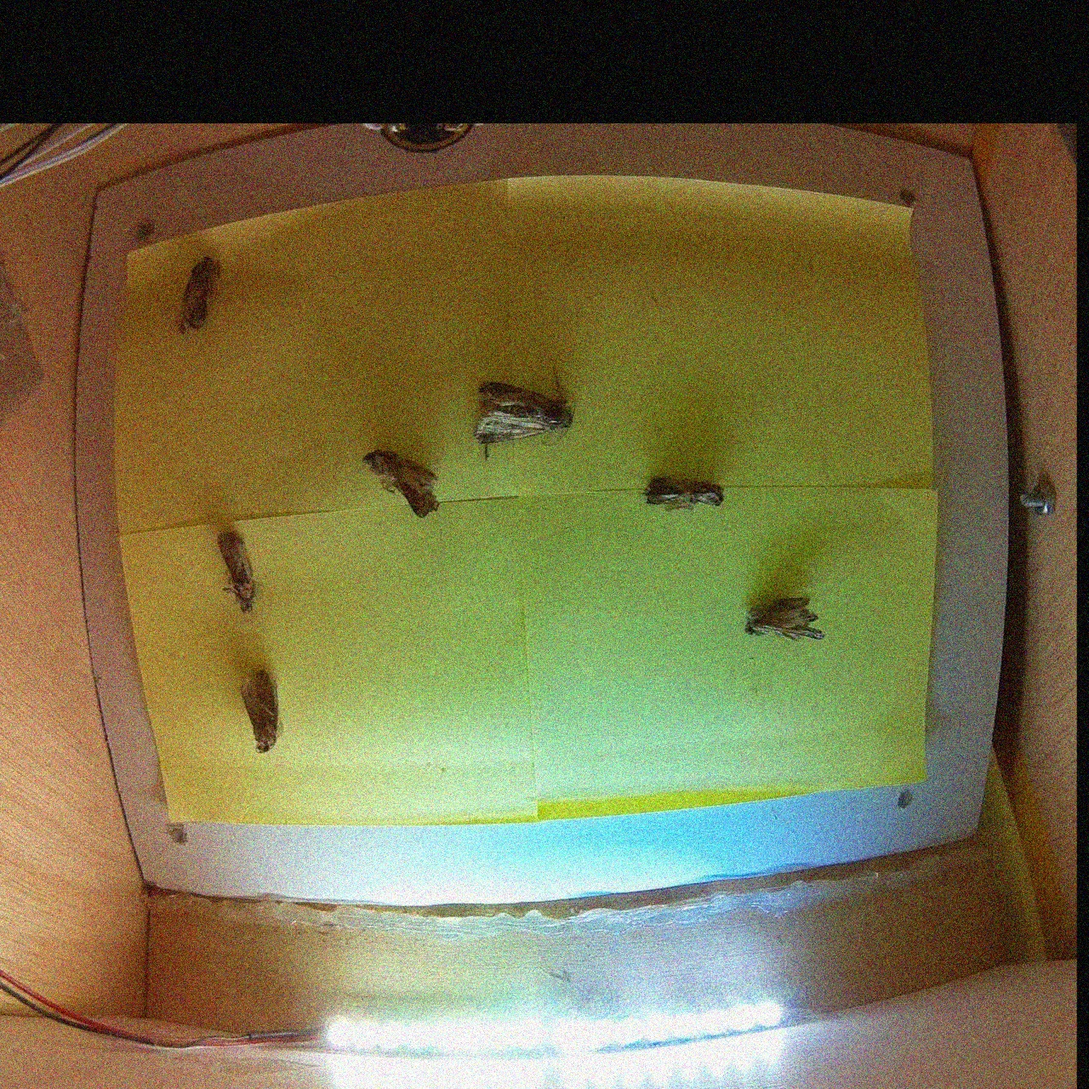Spodoptera litura: (473, 365, 573, 462), (362, 448, 439, 519), (744, 595, 824, 643), (174, 255, 220, 335), (215, 530, 257, 614), (240, 666, 278, 754), (641, 479, 726, 511)
